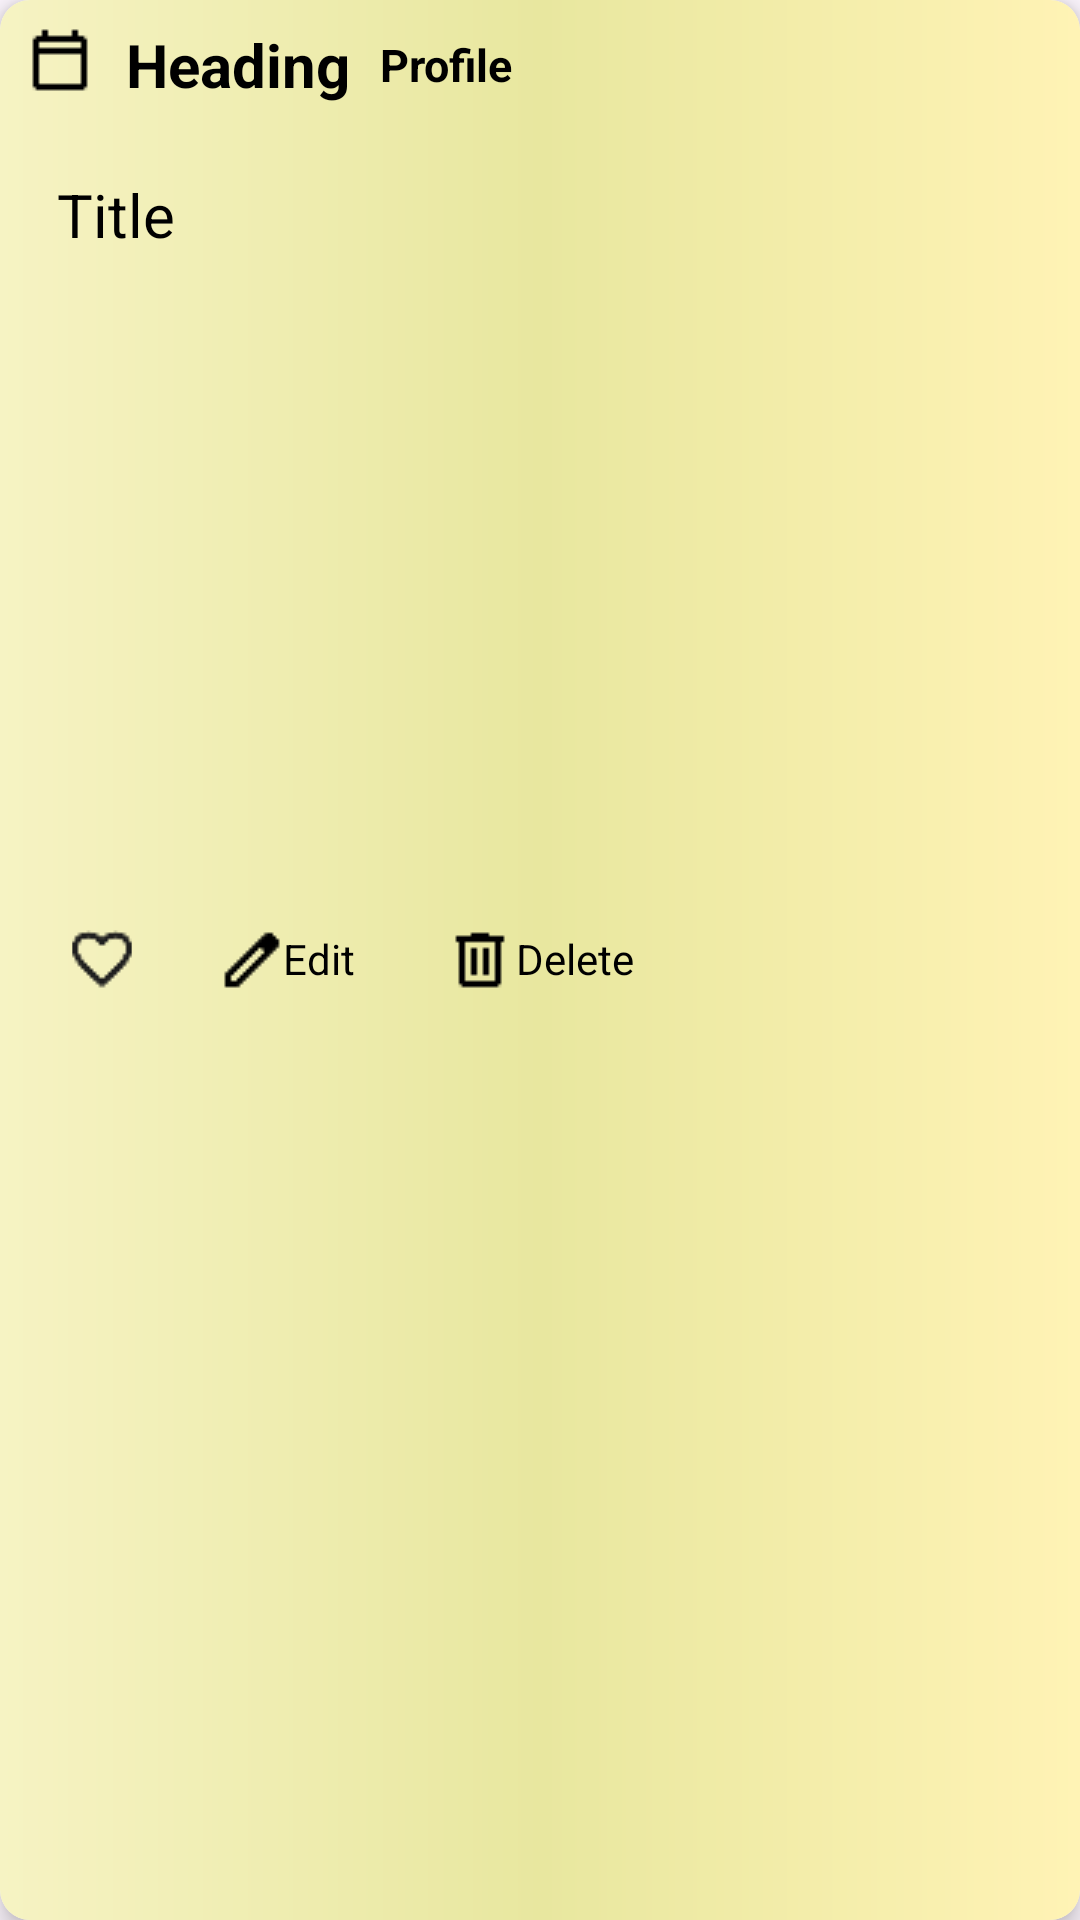

Icons on this 1080w x 1920h Android screen, each with the point to tap as (x,y):
calendar: (60,60)
heart: (102,959)
